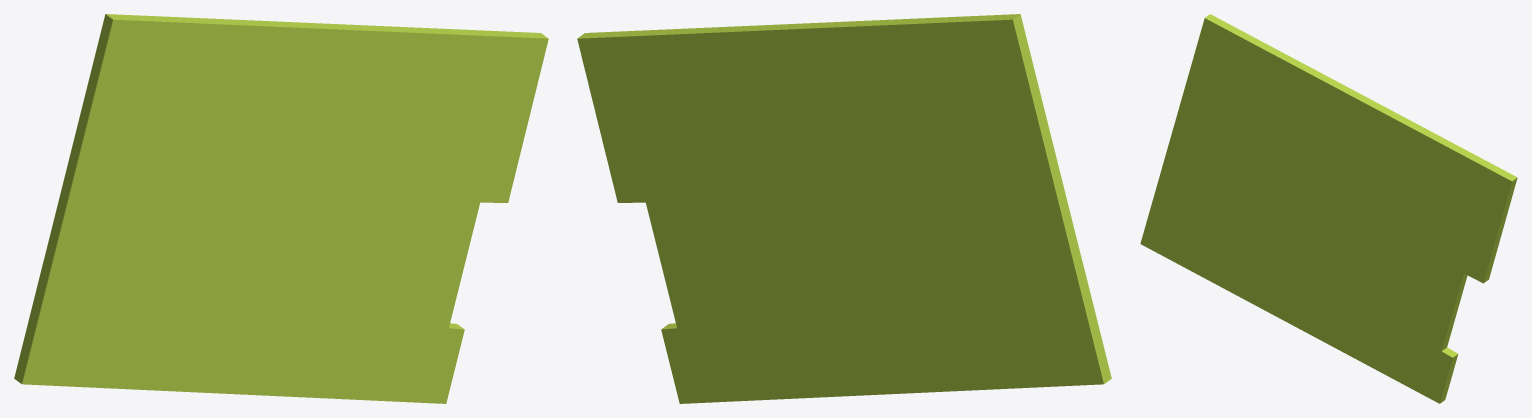
3 renders of one model, left to right at view 1: azimuth 30°, elevation 25°; view 2: azimuth 150°, elevation 25°; view 3: azimuth 330°, elevation 25°, orthographic. The views are drawn at different scales.
Visible parts, largest first — view 1: osm-way27917482-F0; view 2: osm-way27917482-F0; view 3: osm-way27917482-F0.
Boxes of the visible parts, left/top/right/bottom form: osm-way27917482-F0: left=14, top=14, right=548, bottom=403; osm-way27917482-F0: left=577, top=14, right=1111, bottom=403; osm-way27917482-F0: left=1140, top=14, right=1517, bottom=403.
Bounding box in the file's own units: 5.87 × 4.96 × 0.15.
